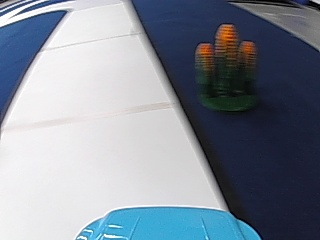corn: (194, 20, 259, 116)
